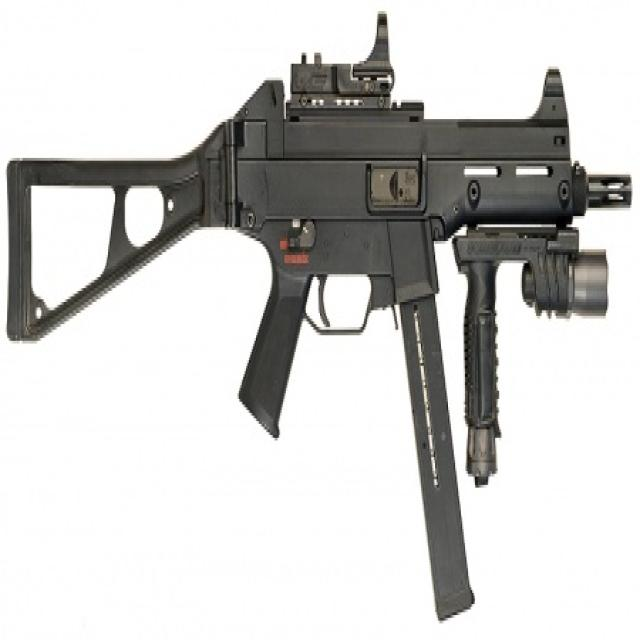rifle: (1, 1, 635, 627)
